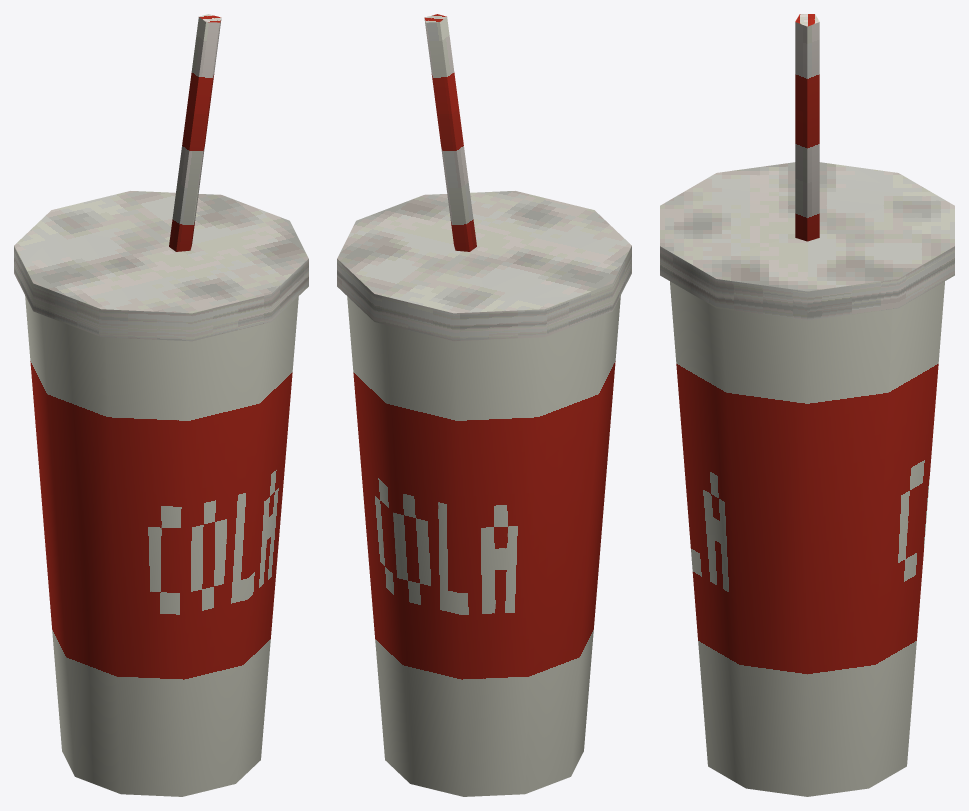
File: soda_cup.glb
3 renders of one model, left to right at view 1: azimuth 30°, elevation 25°; view 2: azimuth 150°, elevation 25°; view 3: azimuth 270°, elevation 25°, orthographic. The views are drawn at different scales.
Parts seen in each view (by area): view 1: soda_cup; view 2: soda_cup; view 3: soda_cup.
Part boxes in pixels (bbox=[...]): soda_cup: bbox=[14, 14, 308, 796]; soda_cup: bbox=[337, 14, 631, 796]; soda_cup: bbox=[660, 14, 954, 796].
Bounding box in the file's own units: 0.096 × 0.2596 × 0.0913.
Materials: 1 (1 with a texture image).
